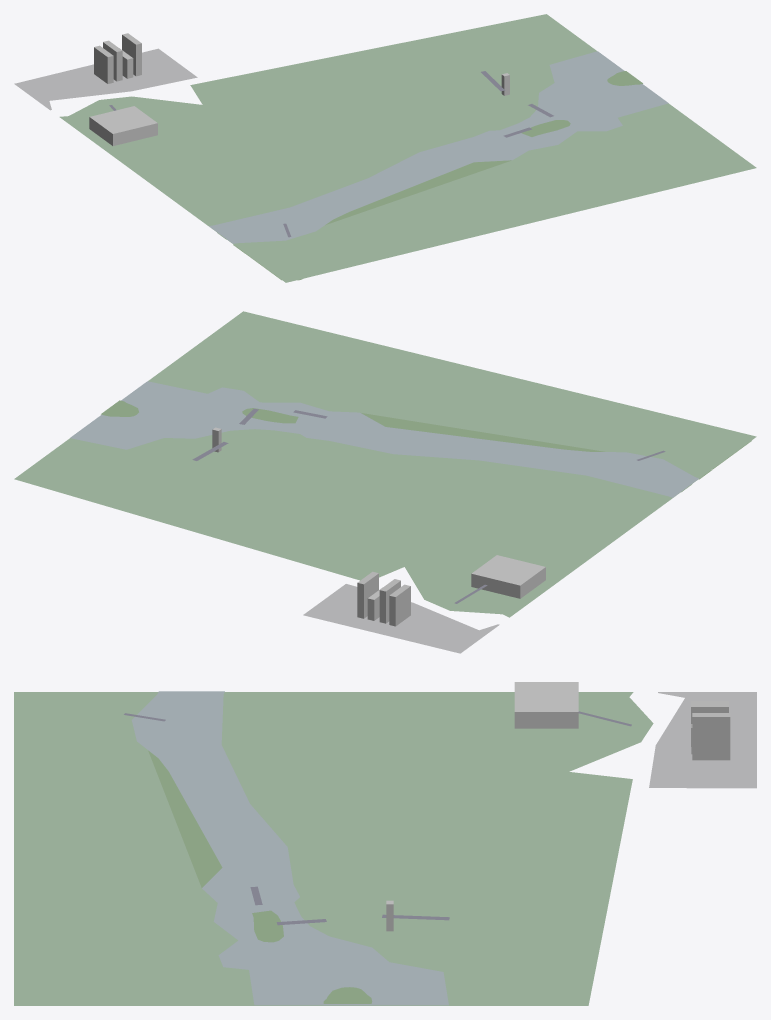
Rendered from 131_80_mid.glb.
3 views of the same model, one above another, from view 1: azimuth 30°, elevation 25°; view 2: azimuth 150°, elevation 25°; view 3: azimuth 270°, elevation 25° (orthographic). The views are drawn at different scales.
Bounding box in the file's own units: 500 × 33.6 × 500.
